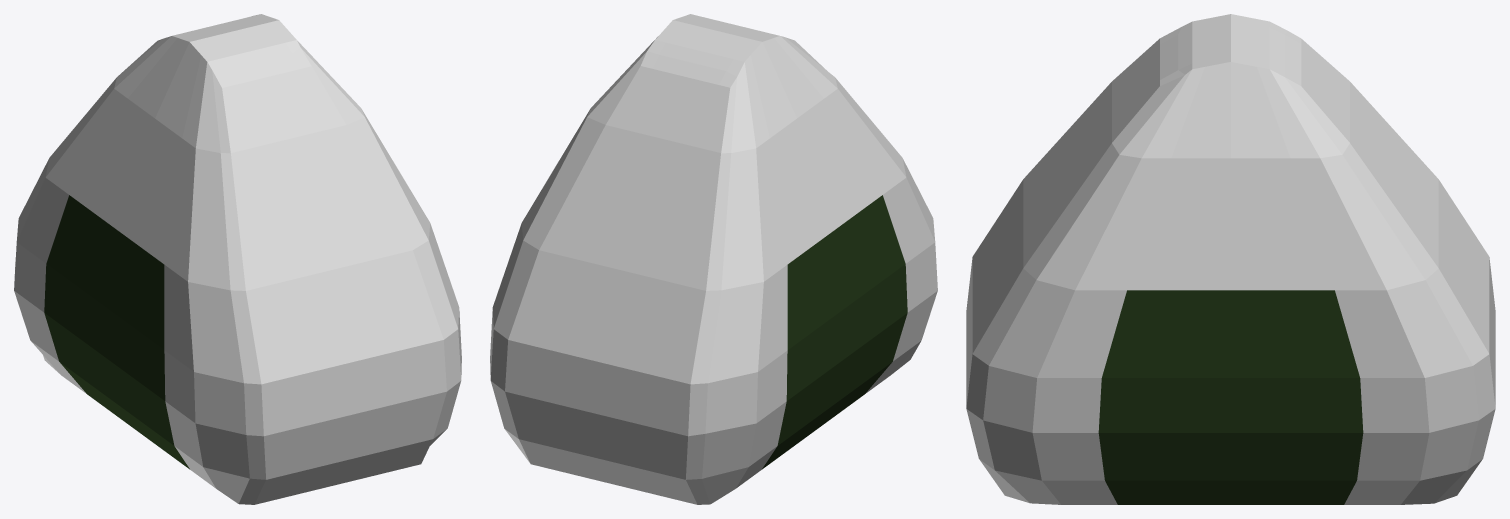
Rendered from riceBall.fbx.
3 renders of one model, left to right at view 1: azimuth 30°, elevation 25°; view 2: azimuth 150°, elevation 25°; view 3: azimuth 270°, elevation 25°, orthographic. The views are drawn at different scales.
Visible parts, largest first — view 1: Cube; view 2: Cube; view 3: Cube.
Part boxes in pixels (x1=…): Cube: x1=14, y1=14, x2=461, y2=504; Cube: x1=490, y1=14, x2=937, y2=504; Cube: x1=966, y1=14, x2=1495, y2=504.
Bounding box in the file's own units: 112 × 157 × 176.
